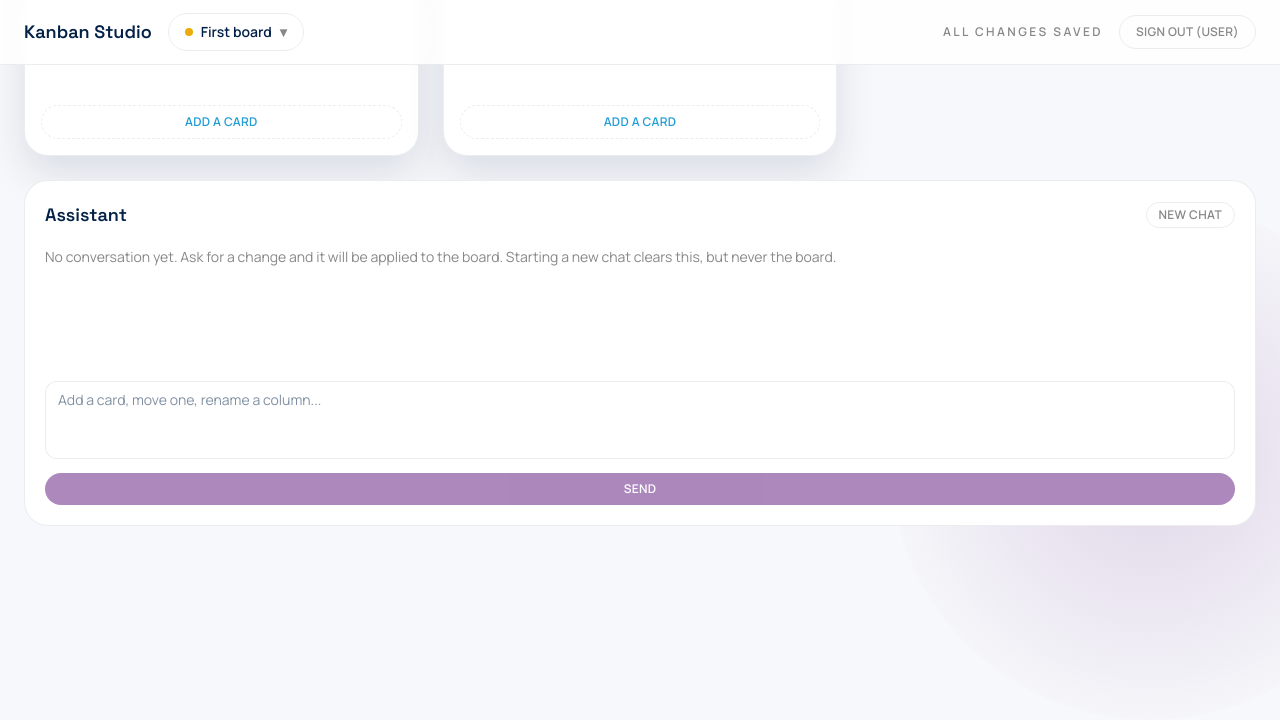
Test case: chat sidebar › sends a message and shows the reply
(page scrolled)
Expected: the heading "Kanban Studio" is shown, [24,18,152,46]
Expected: the element with test id "chat-sidebar" is shown, [24,180,1256,526]
Type "Add a card called Fix login bug" into the text box named "Message" at (640, 420), box [45,381,1235,459]
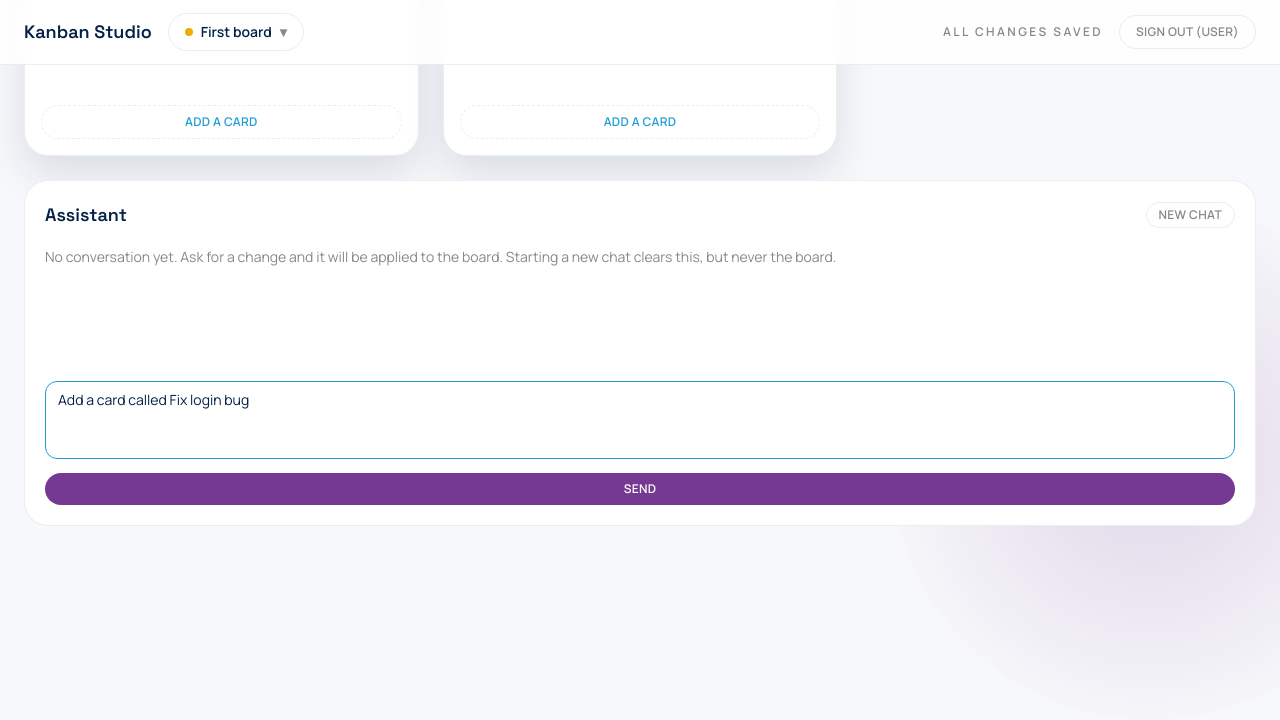
Click the button "Send" at (640, 489), box [45,473,1235,505]
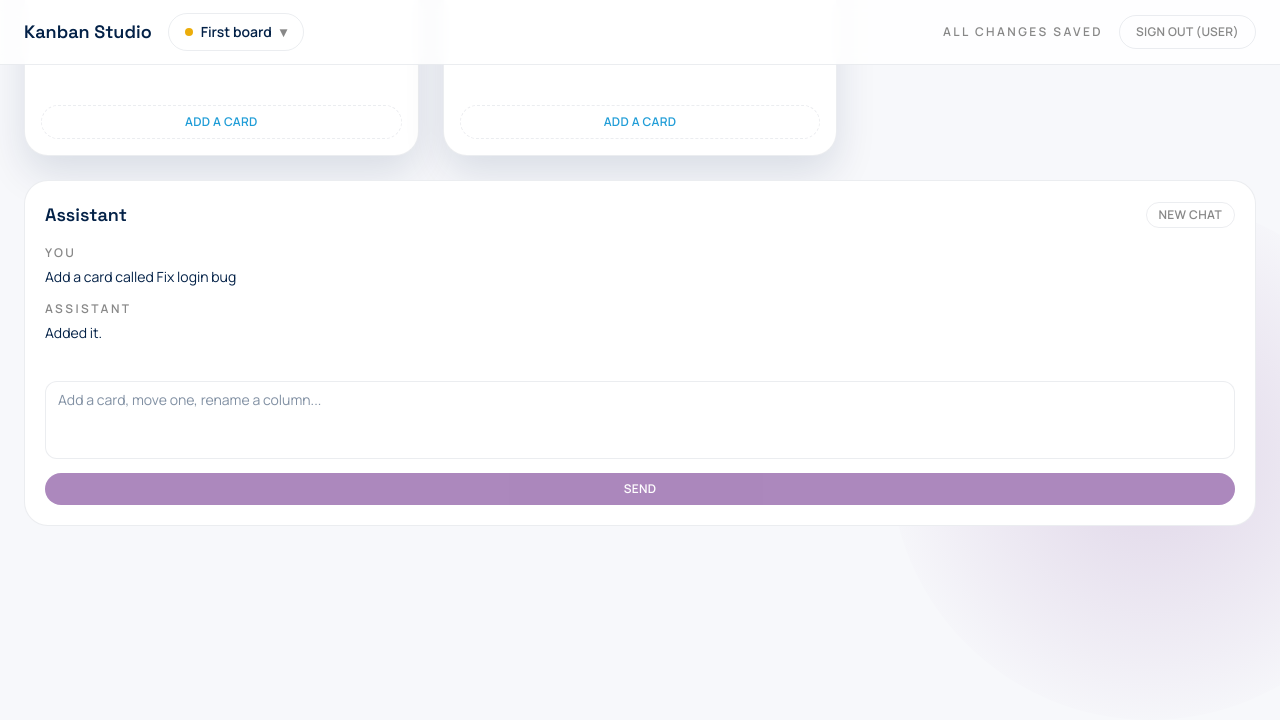
Expected: the text "Add a card called Fix login bug" is shown, [45,267,236,286]
Expected: the text "Added it." is shown, [45,323,102,342]
